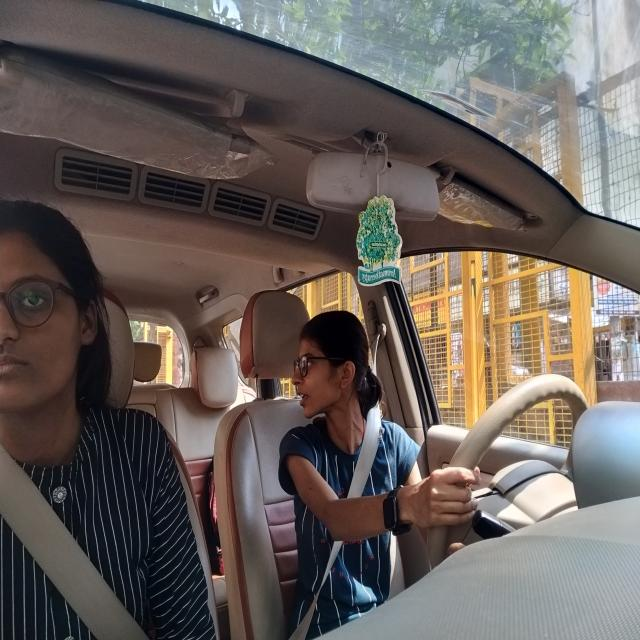LeftRight: (283, 305, 396, 472)
person: (0, 183, 117, 460)
talking: (286, 388, 320, 413)
